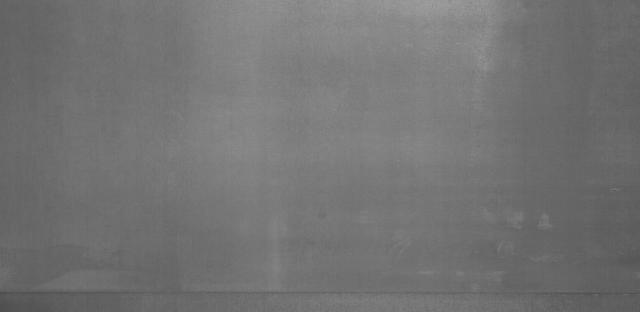welding_line: (5, 281, 640, 305)
